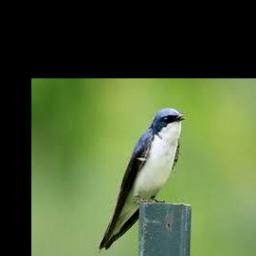Swallow: (99, 108, 187, 250)
